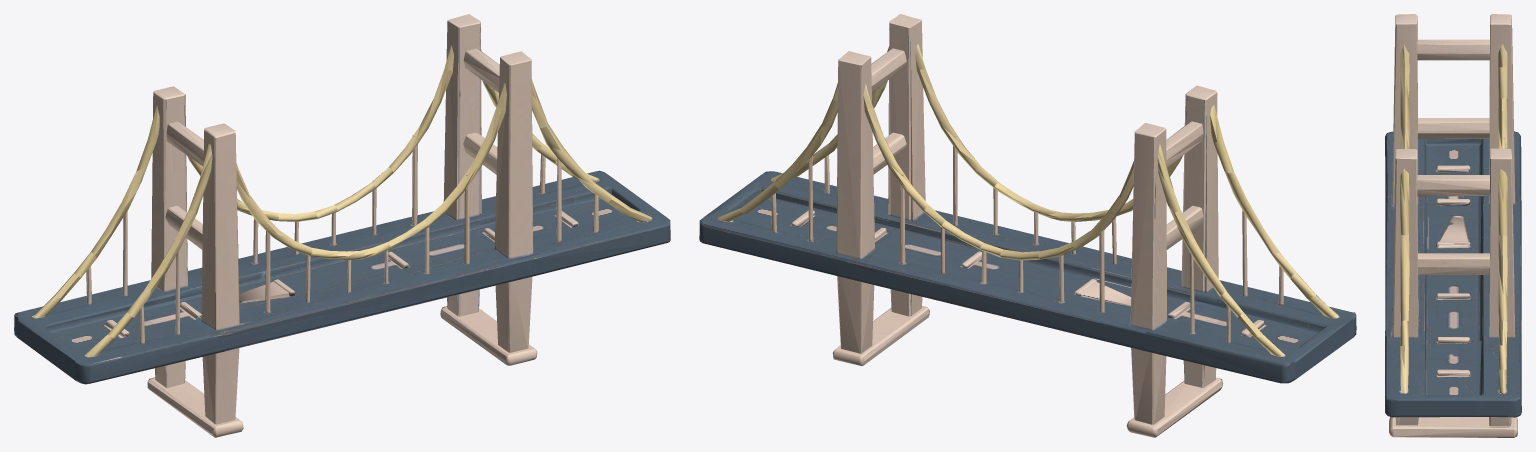
Rendered from suspension-bridge.glb.
3 views of the same model, side by side, from view 1: azimuth 30°, elevation 25°; view 2: azimuth 150°, elevation 25°; view 3: azimuth 270°, elevation 25° (orthographic). The views are drawn at different scales.
Visible parts, largest first — view 1: mesh_node; view 2: mesh_node; view 3: mesh_node.
Part boxes in pixels (x1=…): mesh_node: x1=14, y1=14, x2=670, y2=437; mesh_node: x1=699, y1=14, x2=1356, y2=437; mesh_node: x1=1385, y1=14, x2=1521, y2=437.
Bounding box in the file's own units: 1 × 0.4873 × 0.2153.
1 material, 1 textured.
